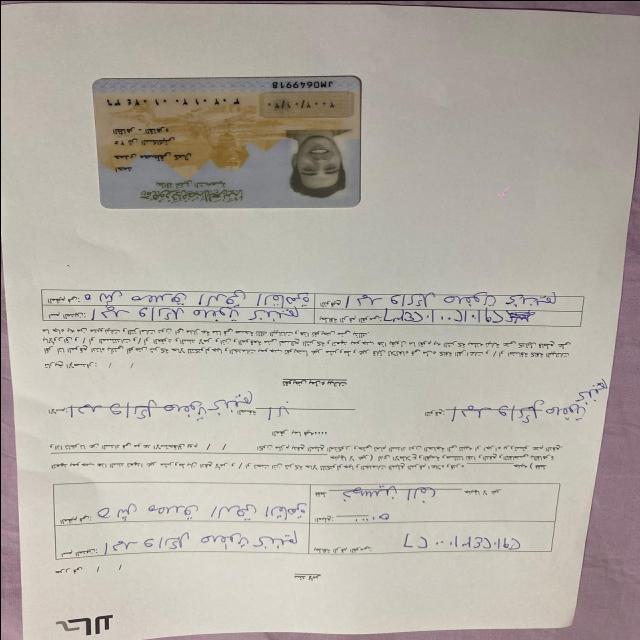ID-cards: (86, 68, 371, 211)
